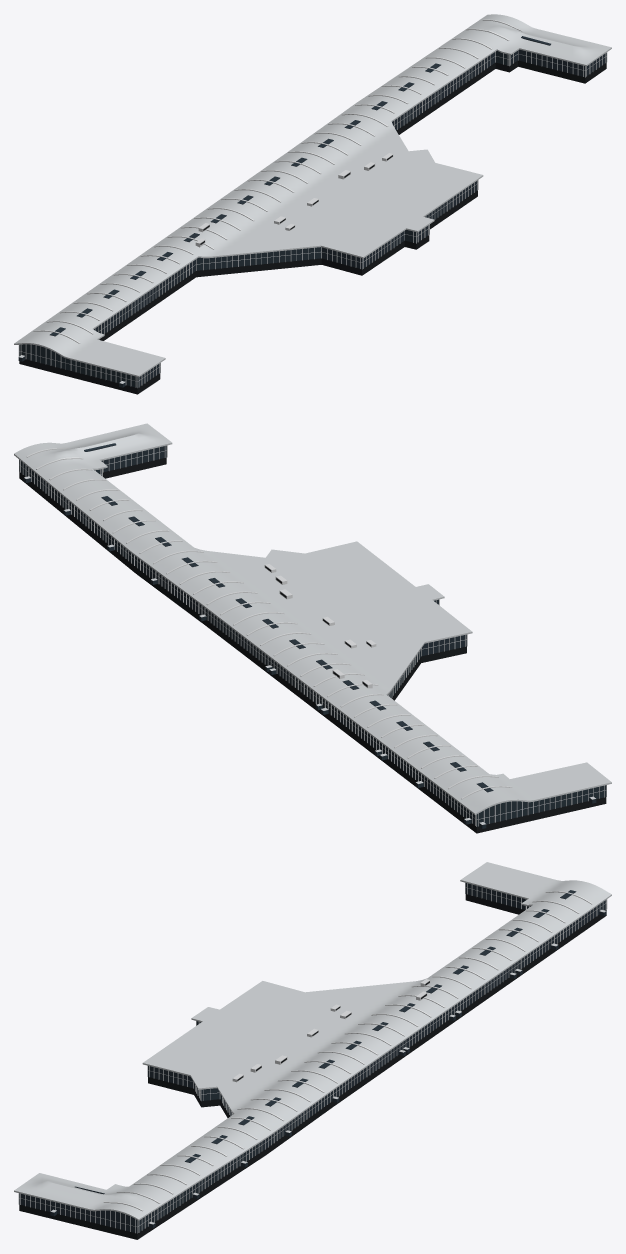
File: OMDB_concourse_d.glb
The picture shows the model from 3 angles, top to bottom: view 1: azimuth 90°, elevation 25°; view 2: azimuth 150°, elevation 25°; view 3: azimuth 270°, elevation 25°; orthographic projection. The views are drawn at different scales.
Visible parts, largest first — view 1: ConcourseD_Building, ConcourseD_Structure, ConcourseD_Skylights; view 2: ConcourseD_Building, ConcourseD_Structure, ConcourseD_Skylights; view 3: ConcourseD_Building, ConcourseD_Structure, ConcourseD_Skylights.
Boxes of the visible parts, x1=… form: ConcourseD_Building: x1=14, y1=14, x2=611, y2=394; ConcourseD_Structure: x1=18, y1=19, x2=607, y2=387; ConcourseD_Skylights: x1=50, y1=36, x2=550, y2=336; ConcourseD_Building: x1=14, y1=423, x2=611, y2=833; ConcourseD_Structure: x1=19, y1=445, x2=606, y2=828; ConcourseD_Skylights: x1=84, y1=443, x2=493, y2=792; ConcourseD_Building: x1=14, y1=862, x2=611, y2=1239; ConcourseD_Structure: x1=18, y1=882, x2=607, y2=1233; ConcourseD_Skylights: x1=75, y1=890, x2=576, y2=1194.
Size of what is drawn, in the model's own units: 654 by 25.1 by 460.
